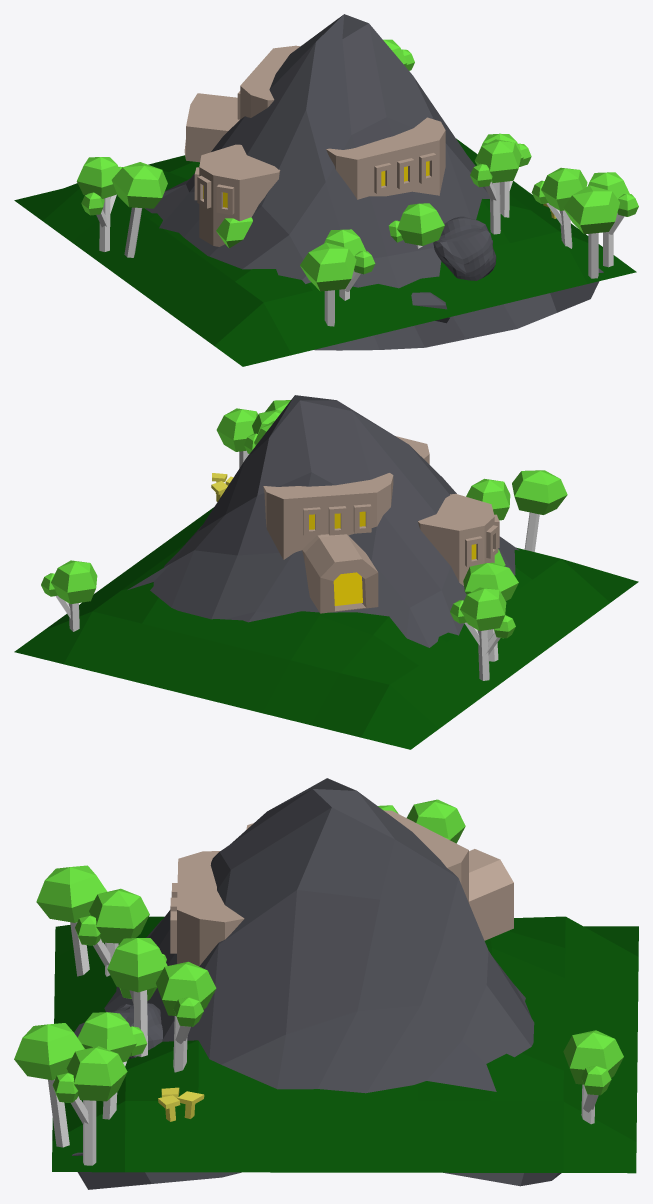
File: forest_birch_mountain.glb
3 renders of one model, top to bottom at view 1: azimuth 30°, elevation 25°; view 2: azimuth 150°, elevation 25°; view 3: azimuth 270°, elevation 25°, orthographic. The views are drawn at different scales.
Parts seen in each view (by area): view 1: 0Mountain, 0mountainBOttom, Cylinder.008, MountainHouseSmall, rock2.016, Entrance.003, Sphere.167, Sphere.153, Cylinder.211, Sphere.176, Tree1.042, Sphere.156 (+7 smaller); view 2: 0mountainBOttom, 0Mountain, Cylinder.211, MountainHouseSmall, Entrance.003, Sphere.167, Sphere.170, Sphere.178, Sphere.176, Sphere.146, Sphere.165, entrance0.001 (+1 smaller); view 3: 0Mountain, 0mountainBOttom, Cylinder.008, Entrance.003, Sphere.167, Sphere.153, Sphere.146, Sphere.156, Sphere.165, Sphere.170, Sphere.159, Sphere.155 (+12 smaller).
Boxes of the visible parts, x1,y1,x2,y2 form: 0Mountain: [145, 14, 603, 350]; 0mountainBOttom: [14, 138, 636, 366]; Cylinder.008: [326, 117, 445, 199]; MountainHouseSmall: [194, 144, 280, 246]; rock2.016: [433, 216, 496, 280]; Entrance.003: [184, 93, 239, 162]; Sphere.167: [300, 242, 356, 291]; Sphere.153: [563, 185, 619, 234]; Cylinder.211: [237, 45, 299, 119]; Sphere.176: [111, 162, 167, 208]; Tree1.042: [388, 203, 444, 248]; Sphere.156: [474, 139, 521, 182]; 0mountainBOttom: [14, 507, 638, 749]; 0Mountain: [128, 395, 519, 647]; Cylinder.211: [263, 473, 393, 559]; MountainHouseSmall: [418, 493, 499, 585]; Entrance.003: [302, 534, 378, 613]; Sphere.167: [512, 470, 567, 514]; Sphere.170: [51, 560, 97, 604]; Sphere.178: [460, 587, 506, 631]; Sphere.176: [463, 562, 518, 600]; Sphere.146: [216, 408, 257, 451]; Sphere.165: [466, 478, 510, 520]; entrance0.001: [333, 572, 362, 605]; 0Mountain: [72, 778, 561, 1189]; 0mountainBOttom: [52, 916, 638, 1173]; Cylinder.008: [170, 851, 244, 966]; Entrance.003: [469, 849, 513, 940]; Sphere.167: [36, 865, 107, 922]; Sphere.153: [14, 1023, 84, 1080]; Sphere.146: [66, 1046, 127, 1101]; Sphere.156: [107, 938, 167, 992]; Sphere.165: [89, 888, 149, 943]; Sphere.170: [563, 1030, 623, 1084]; Sphere.159: [156, 961, 216, 1015]; Sphere.155: [77, 1012, 136, 1062].
Size of the model in its own units: 9.13 by 5.15 by 9.31.
